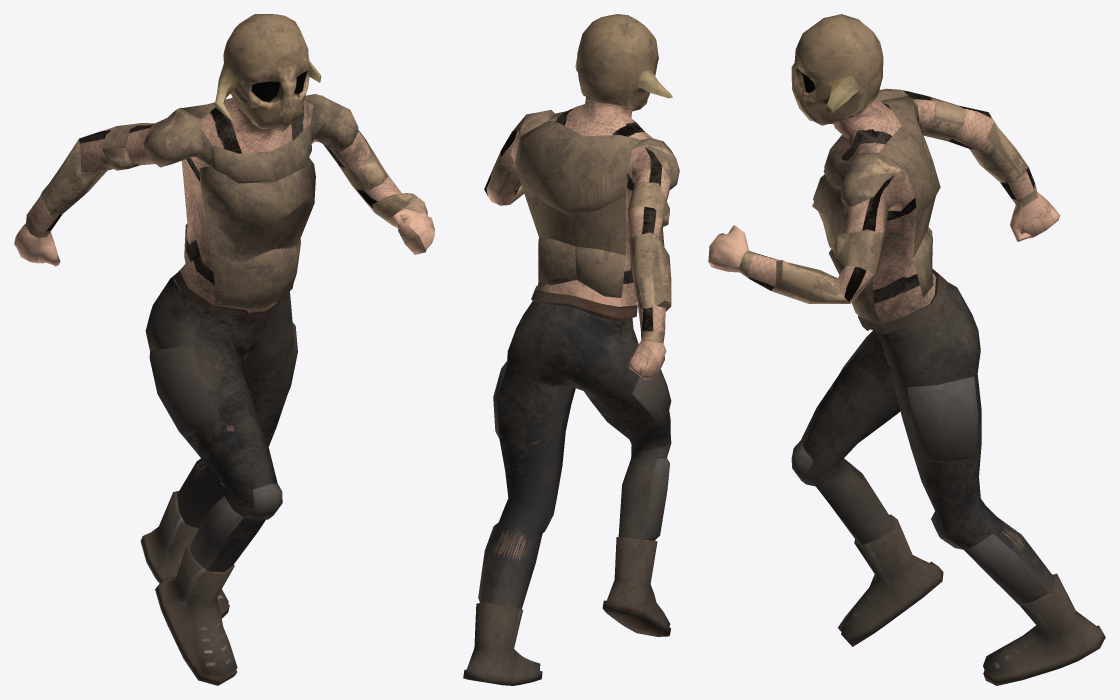
The model's file is Anim_correr_npc1.0029.obj.
The picture shows the model from 3 angles, left to right: view 1: azimuth 30°, elevation 25°; view 2: azimuth 150°, elevation 25°; view 3: azimuth 270°, elevation 25°; orthographic projection. The views are drawn at different scales.
Parts seen in each view (by area): view 1: Anim_correr_npc1; view 2: Anim_correr_npc1; view 3: Anim_correr_npc1.
Part boxes in pixels (left/top/right/bottom): Anim_correr_npc1: left=14, top=14, right=434, bottom=685; Anim_correr_npc1: left=463, top=14, right=679, bottom=685; Anim_correr_npc1: left=708, top=14, right=1105, bottom=685.
Size of the model in its own units: 4.22 by 9.25 by 5.13.
